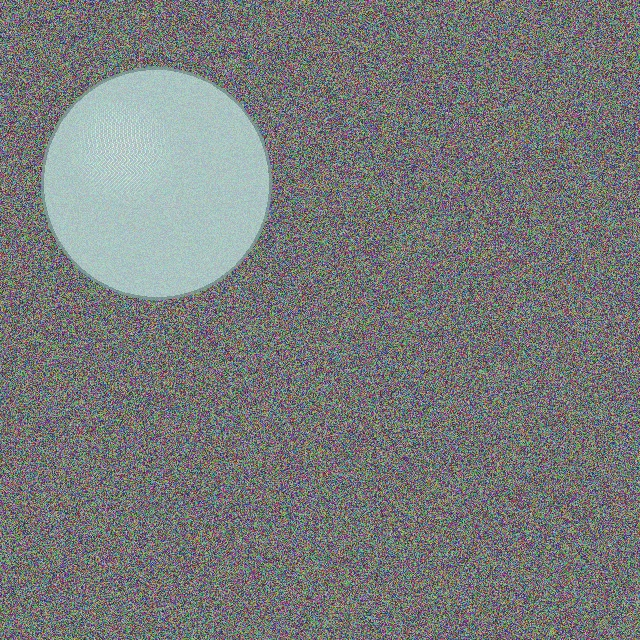lens: (42, 68, 270, 298)
